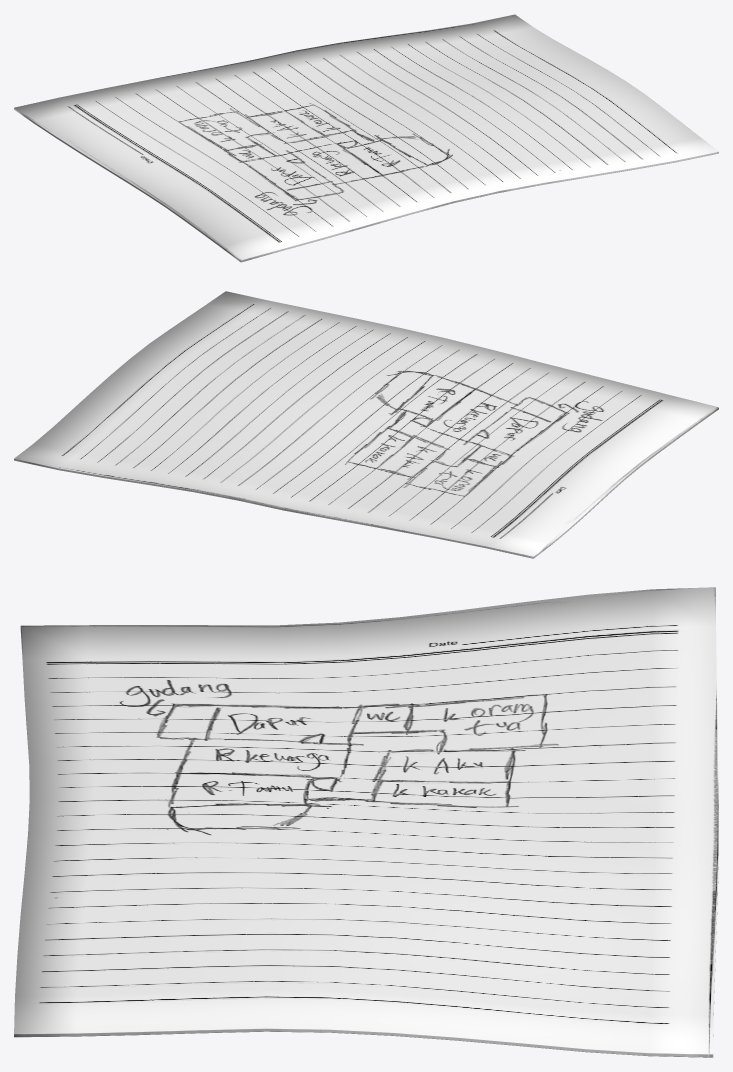
File: Denah.fbx
3 views of the same model, one above another, from view 1: azimuth 30°, elevation 25°; view 2: azimuth 150°, elevation 25°; view 3: azimuth 270°, elevation 25° (orthographic). The views are drawn at different scales.
Parts seen in each view (by area): view 1: Denah; view 2: Denah; view 3: Denah.
Part boxes in pixels (x1,y1,x2,y2): Denah: (14, 14, 718, 262); Denah: (14, 291, 718, 558); Denah: (14, 587, 718, 1057).
Bounding box in the file's own units: 143 × 8.18 × 101.
1 material, 1 textured.
